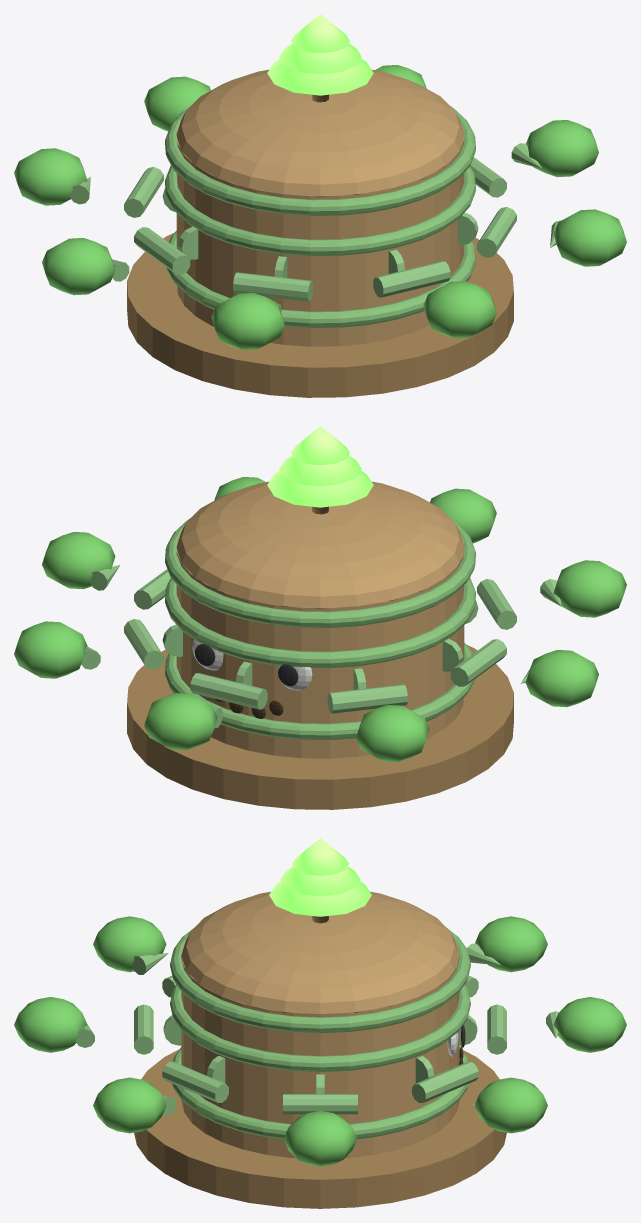
The model's file is tack001.fbx.
3 views of the same model, one above another, from view 1: azimuth 30°, elevation 25°; view 2: azimuth 150°, elevation 25°; view 3: azimuth 270°, elevation 25° (orthographic). The views are drawn at different scales.
Parts seen in each view (by area): view 1: TopCap, Base, Barrel, Band_Top, Band_Mid, Band_Low, Disk_06, Disk_07, Disk_04, Disk_05, Disk_00, Disk_03 (+12 smaller); view 2: TopCap, Base, Barrel, Band_Top, Band_Mid, Band_Low, Disk_02, Disk_04, Disk_03, Disk_01, Disk_05, Disk_00 (+12 smaller); view 3: TopCap, Base, Barrel, Band_Top, Band_Mid, Band_Low, Disk_01, Disk_07, Disk_00, Disk_02, Disk_06, Disk_03 (+9 smaller).
Part boxes in pixels (left/top/right/bottom): TopCap: left=176, top=69, right=464, bottom=197; Base: left=127, top=232, right=513, bottom=397; Barrel: left=176, top=122, right=464, bottom=346; Band_Top: left=165, top=106, right=475, bottom=215; Band_Mid: left=165, top=165, right=475, bottom=256; Band_Low: left=166, top=231, right=475, bottom=327; Disk_06: left=423, top=281, right=496, bottom=338; Disk_07: left=553, top=209, right=626, bottom=266; Disk_04: left=42, top=238, right=115, bottom=295; Disk_05: left=211, top=293, right=284, bottom=350; Disk_00: left=526, top=120, right=598, bottom=177; Disk_03: left=14, top=148, right=87, bottom=205; TopCap: left=176, top=481, right=464, bottom=609; Base: left=127, top=644, right=513, bottom=809; Barrel: left=176, top=534, right=464, bottom=758; Band_Top: left=165, top=518, right=475, bottom=627; Band_Mid: left=165, top=577, right=475, bottom=668; Band_Low: left=165, top=643, right=474, bottom=739; Disk_02: left=144, top=693, right=217, bottom=750; Disk_04: left=525, top=650, right=598, bottom=707; Disk_03: left=356, top=705, right=429, bottom=762; Disk_01: left=14, top=621, right=87, bottom=678; Disk_05: left=553, top=560, right=626, bottom=617; Disk_00: left=42, top=532, right=115, bottom=589; TopCap: left=181, top=891, right=459, bottom=1013; Base: left=134, top=1049, right=506, bottom=1208; Barrel: left=181, top=942, right=459, bottom=1158; Band_Top: left=170, top=927, right=470, bottom=1033; Band_Mid: left=170, top=984, right=470, bottom=1071; Band_Low: left=172, top=1047, right=468, bottom=1139; Disk_01: left=474, top=1077, right=547, bottom=1133; Disk_07: left=93, top=1077, right=166, bottom=1133; Disk_00: left=284, top=1111, right=356, bottom=1166; Disk_02: left=553, top=997, right=626, bottom=1052; Disk_06: left=14, top=997, right=87, bottom=1052; Disk_03: left=475, top=916, right=547, bottom=972.
Size of the model in its own units: 344 by 181 by 344.
